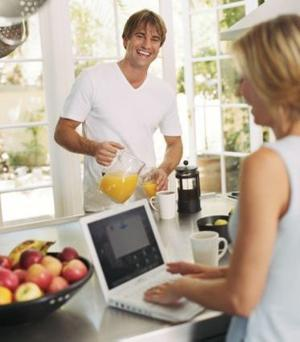person: (54, 10, 184, 217)
